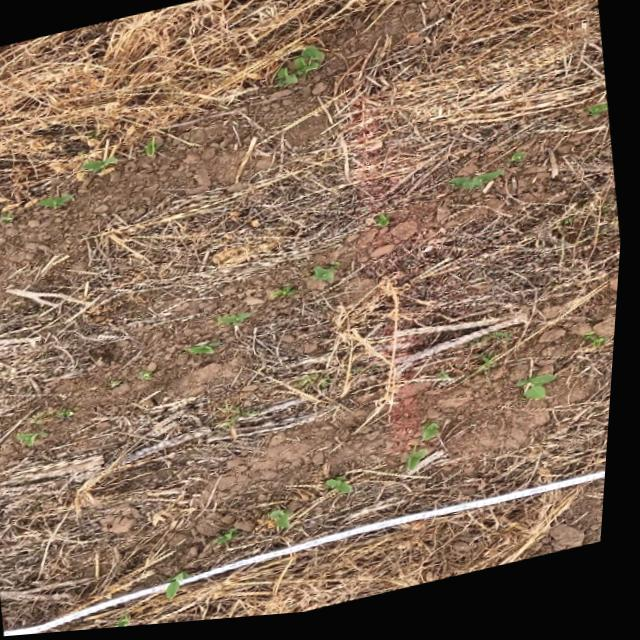soy_plant: (21, 408, 79, 448), (276, 49, 325, 91), (246, 417, 315, 441), (452, 177, 507, 197), (522, 384, 562, 409), (174, 575, 196, 601), (270, 406, 309, 419), (317, 268, 343, 287), (332, 481, 359, 499), (414, 453, 435, 476), (84, 160, 119, 173), (192, 345, 227, 358), (223, 316, 255, 330), (39, 195, 76, 207), (277, 513, 299, 533), (590, 341, 614, 358), (223, 533, 247, 548), (149, 138, 166, 157), (429, 431, 445, 448), (275, 290, 301, 300), (593, 112, 610, 125), (378, 219, 392, 233), (125, 617, 139, 630), (512, 159, 529, 169)
